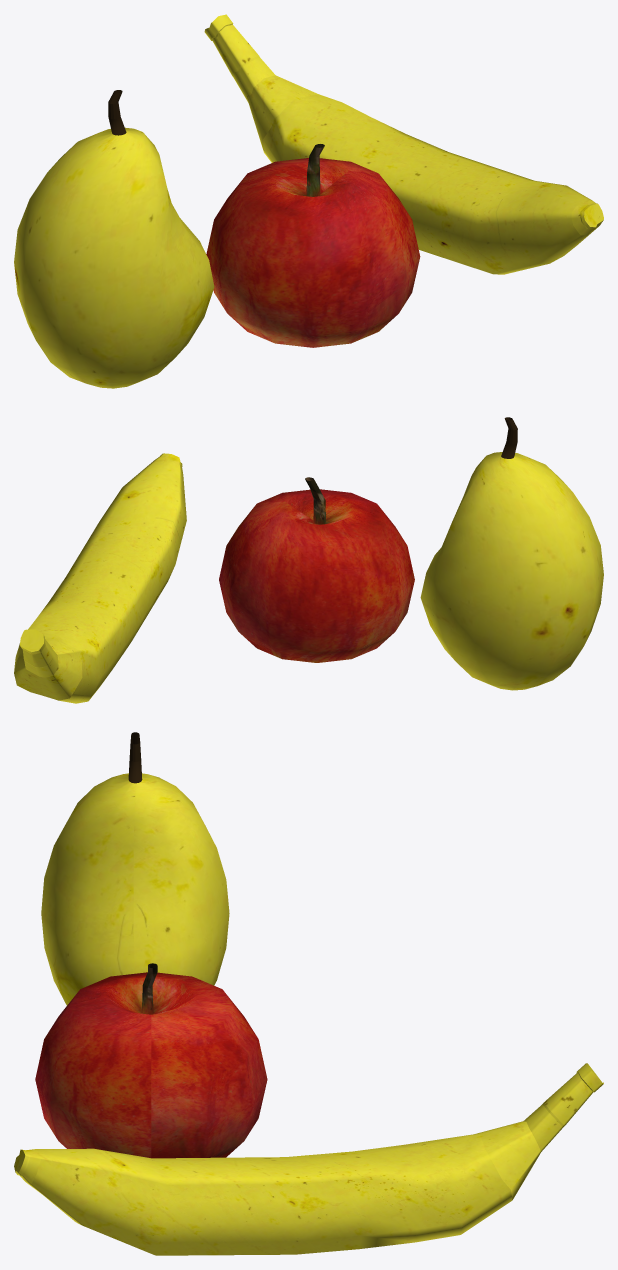
The model's file is fruits.fbx.
3 views of the same model, one above another, from view 1: azimuth 30°, elevation 25°; view 2: azimuth 150°, elevation 25°; view 3: azimuth 270°, elevation 25° (orthographic). The views are drawn at different scales.
Visible parts, largest first — view 1: mangi, apple, banana1; view 2: mangi, apple, banana1; view 3: banana1, apple, mangi.
Boxes of the visible parts, x1,y1,x2,y2 form: mangi: [14, 90, 214, 388]; apple: [206, 144, 420, 347]; banana1: [204, 14, 603, 274]; mangi: [420, 417, 603, 690]; apple: [219, 477, 414, 662]; banana1: [14, 453, 186, 703]; banana1: [14, 1063, 603, 1255]; apple: [35, 963, 267, 1158]; mangi: [41, 732, 229, 1005].
Size of the model in its own units: 65.18 by 33.38 by 56.58.
Materials: 4 (3 with a texture image).
